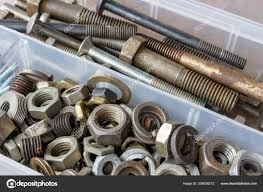metal: (68, 31, 216, 120), (116, 31, 242, 121), (48, 11, 139, 42), (128, 99, 179, 152), (85, 99, 132, 148), (197, 133, 244, 177), (27, 83, 69, 122), (44, 134, 87, 171), (169, 121, 205, 165), (150, 119, 182, 162), (1, 89, 34, 127), (47, 109, 84, 140), (13, 134, 51, 162), (110, 156, 152, 181), (229, 147, 263, 177), (89, 149, 124, 177), (9, 67, 38, 97)
